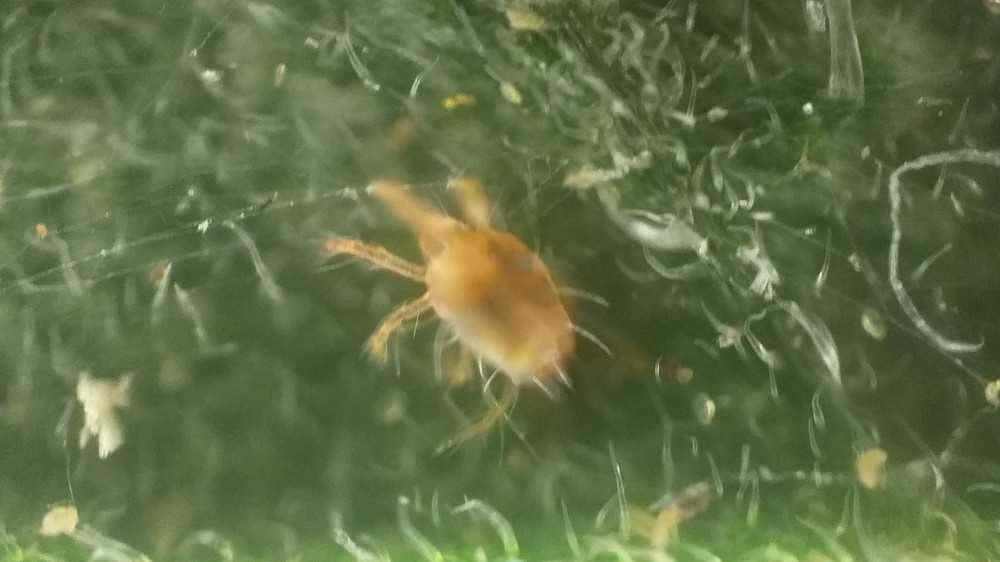Aracnido Rojo: (307, 168, 640, 471)
